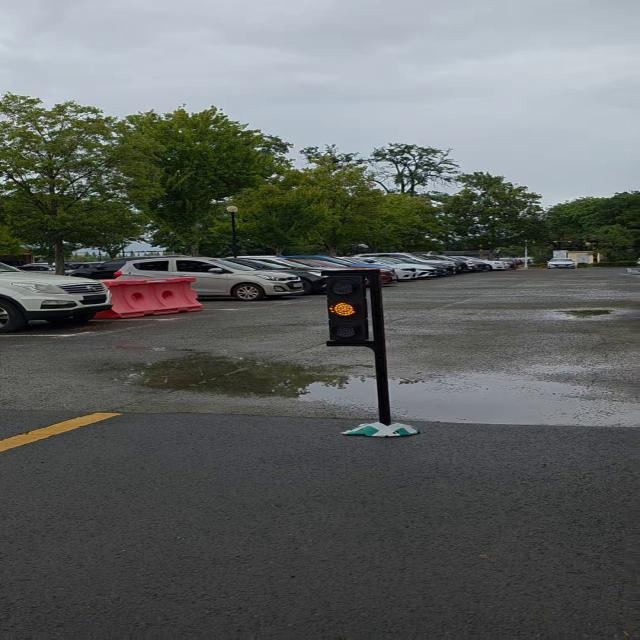yellow: (323, 271, 381, 347)
